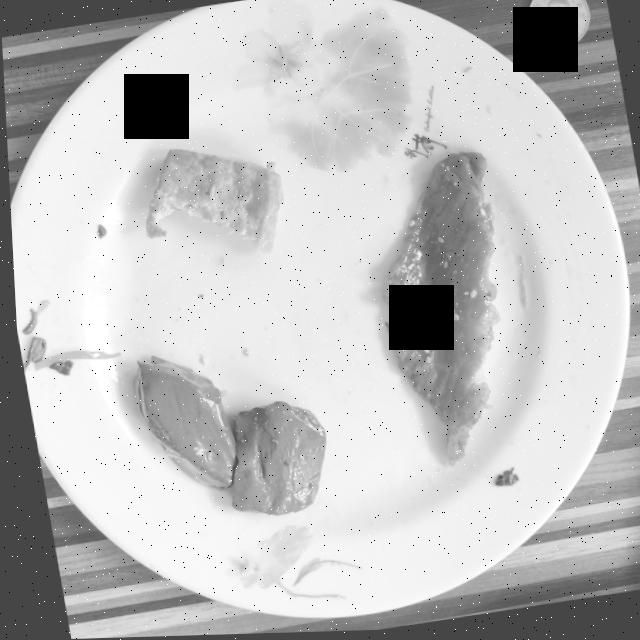Kabayaki sea bream fillet: (378, 154, 495, 468)
coin: (526, 0, 588, 52)
pig blood curd: (128, 357, 320, 517)
